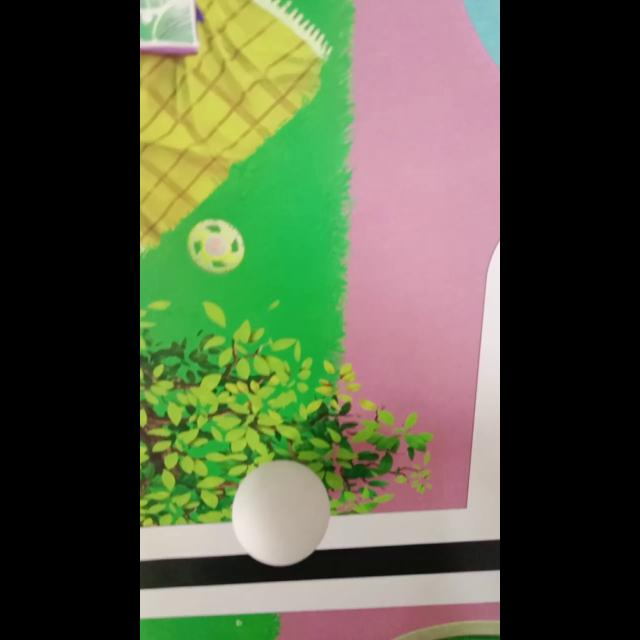white ball: (230, 458, 330, 566)
